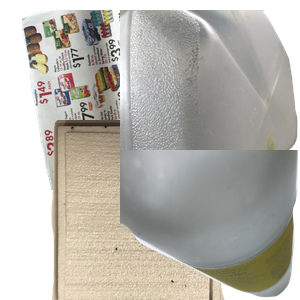glass: (120, 150, 300, 300)
paper: (19, 10, 223, 190)
plastic: (120, 10, 300, 190)
trash: (49, 120, 269, 300)
